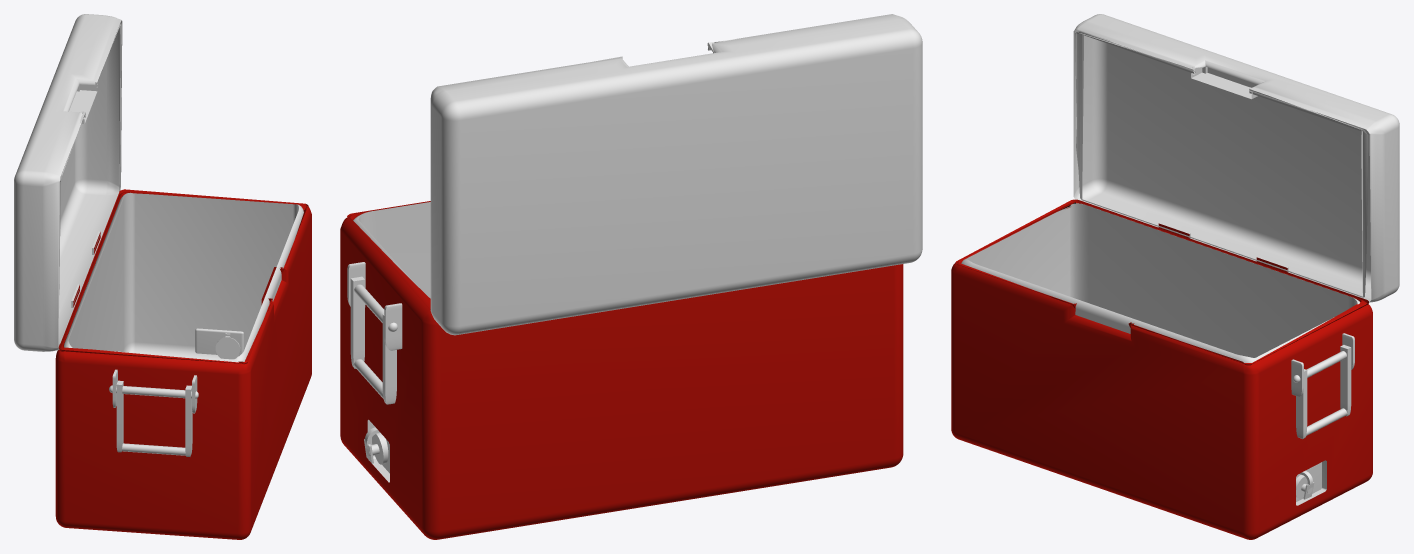
Rendered from cooler.glb.
The picture shows the model from 3 angles, left to right: view 1: azimuth 30°, elevation 25°; view 2: azimuth 150°, elevation 25°; view 3: azimuth 270°, elevation 25°; orthographic projection. The views are drawn at different scales.
Parts seen in each view (by area): view 1: BasicCoolerOpen; view 2: BasicCoolerOpen; view 3: BasicCoolerOpen.
Boxes of the visible parts, box(x1,y1,x2,y2) form: BasicCoolerOpen: box(14, 14, 311, 539); BasicCoolerOpen: box(340, 14, 922, 539); BasicCoolerOpen: box(951, 14, 1399, 539).
Bounding box in the file's own units: 4.32 × 3.94 × 4.54.
Materials: 3 (1 with a texture image).
